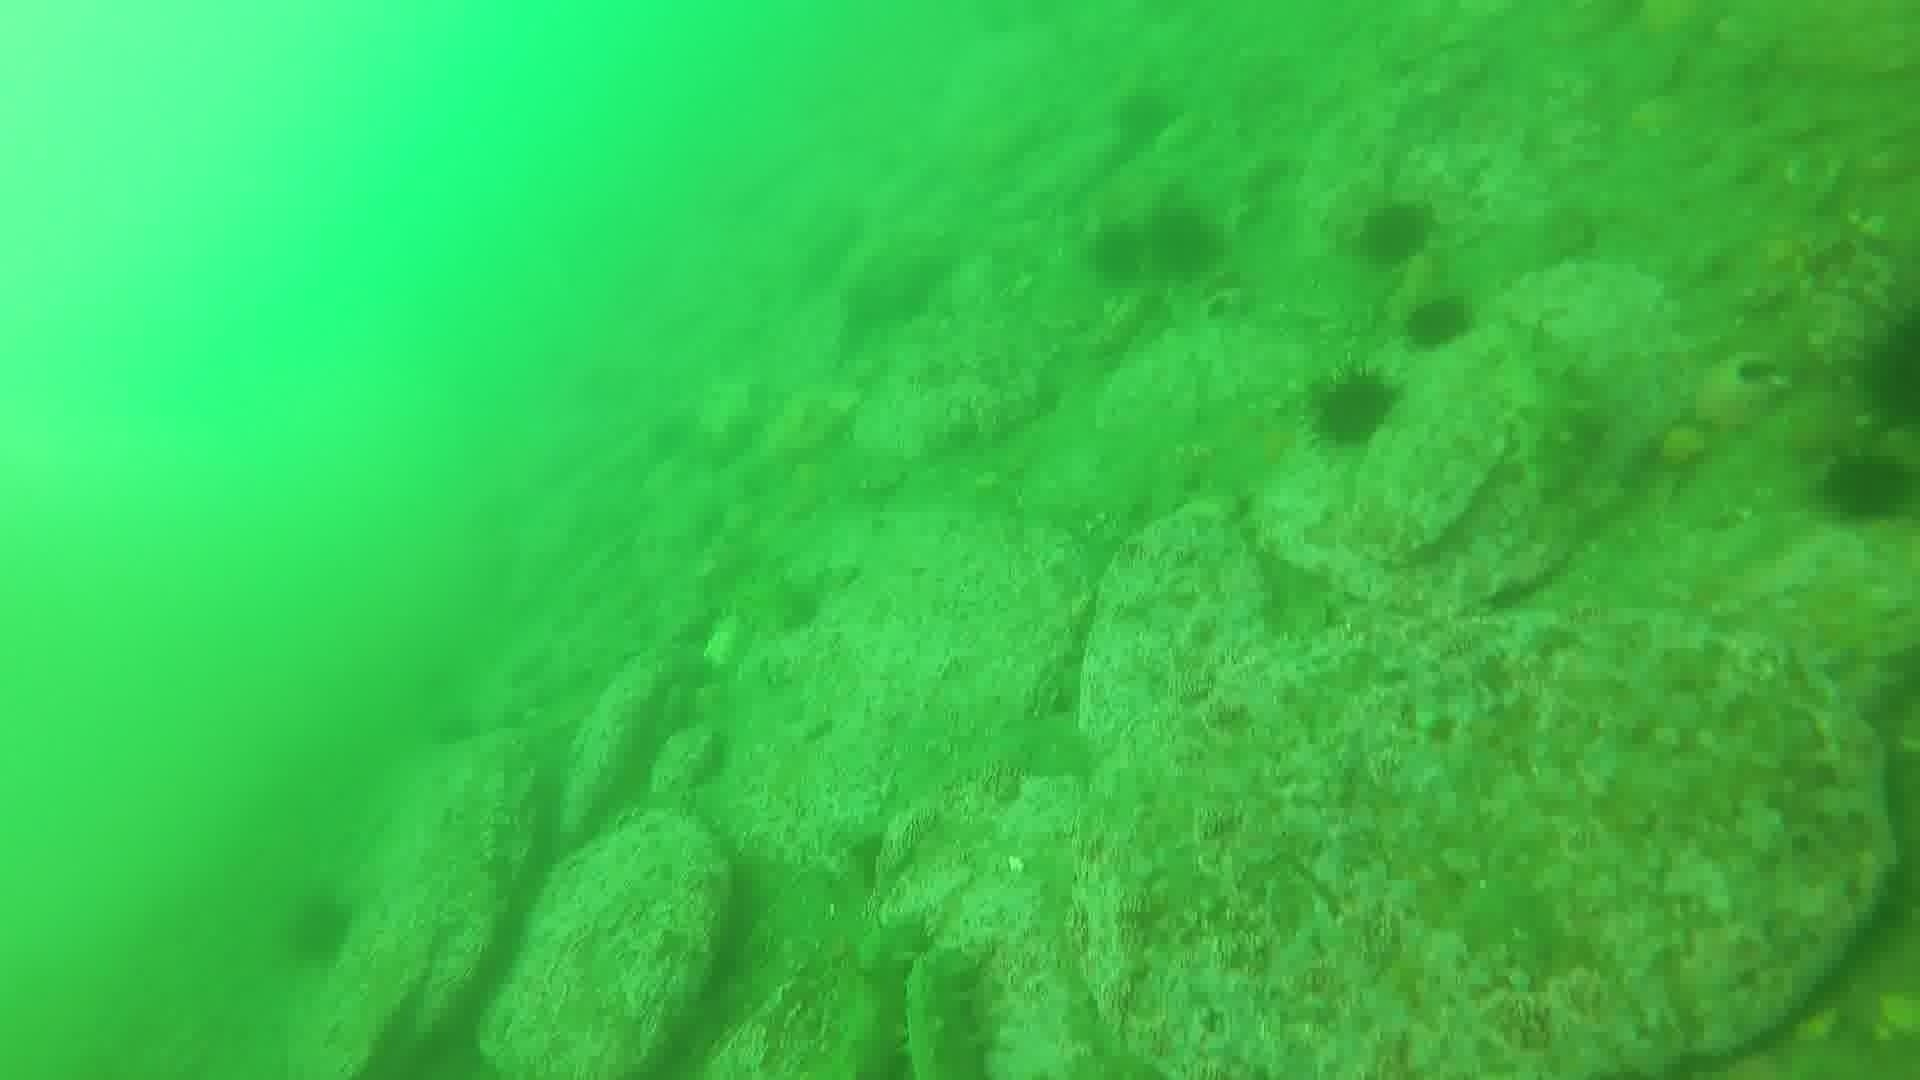echinus: (1304, 364, 1403, 452), (1815, 444, 1916, 530), (1851, 309, 1920, 433), (1139, 199, 1226, 284), (280, 885, 360, 969), (1352, 195, 1437, 272), (1109, 82, 1183, 152), (1083, 219, 1154, 290), (1399, 290, 1477, 355)
holothurian: (1497, 336, 1605, 509), (827, 915, 938, 1080), (895, 936, 1007, 1080)
starfish: (1197, 405, 1305, 504)
